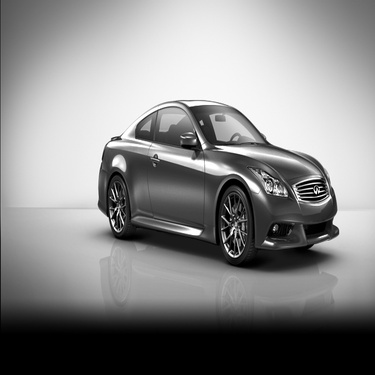car: (68, 89, 354, 273)
